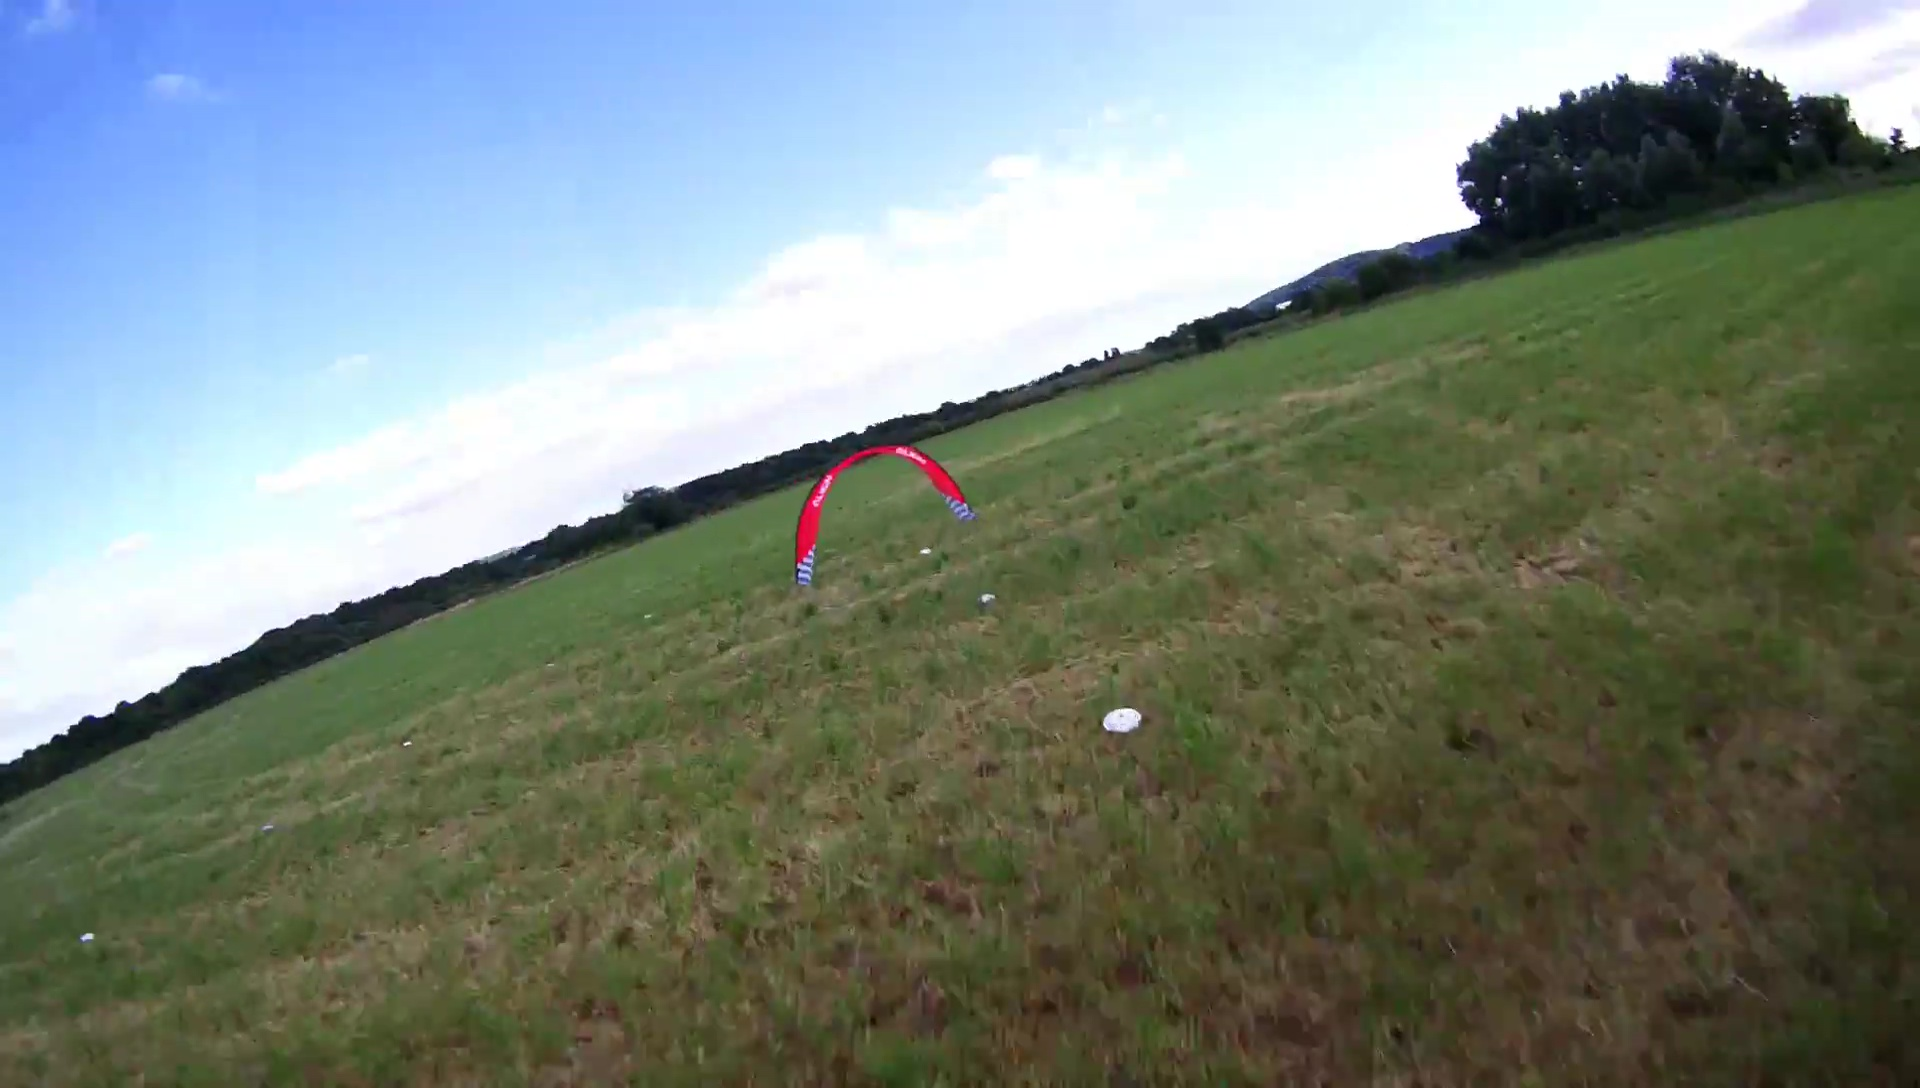gate: (794, 443, 976, 592)
